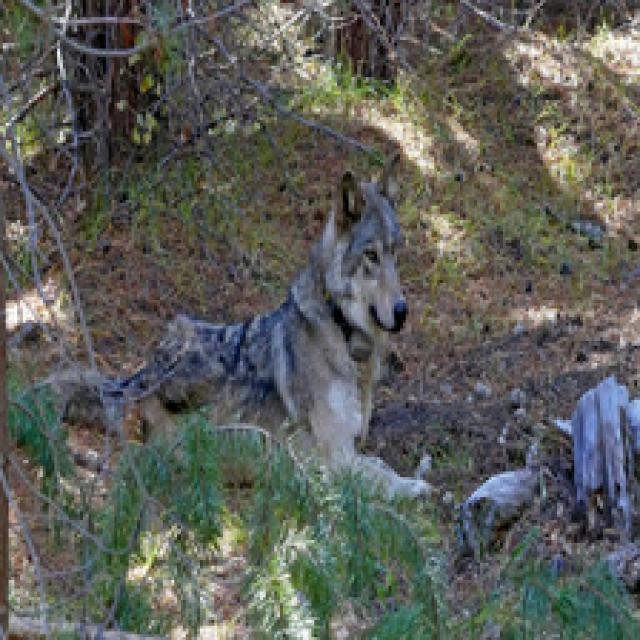wolf: (89, 162, 458, 527)
